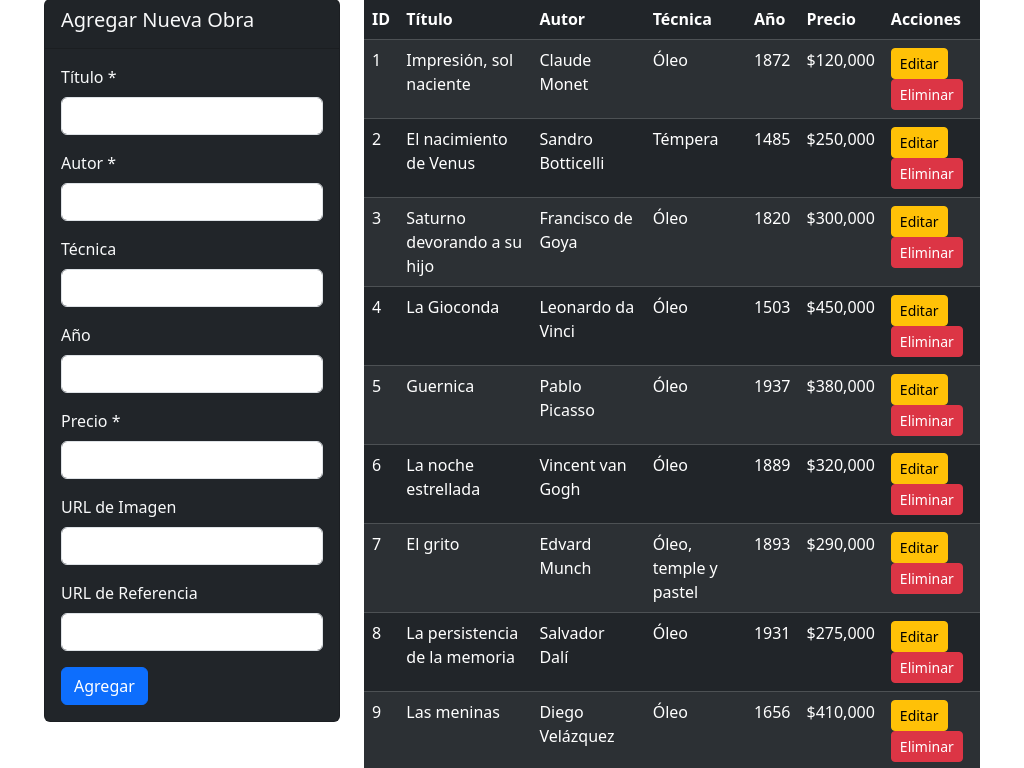
Mantenedor › valida título, inputs y validaciones de formulario
(page scrolled)
Check: the field named "titulo" below "Título *" is shown, box [61,97,323,135]
Check: the field named "autor" below "Autor *" is shown, box [61,183,323,221]
# Validación negativa: enviar vacío muestra mensaje de error
Submit the form, box [61,65,323,705]
# Caso positivo: completar y enviar muestra éxito
Type "Nueva Obra" into the field named "titulo" below "Título *".
click(192, 116); type("Nueva Obra")  # box [61,97,323,135]
(page scrolled)
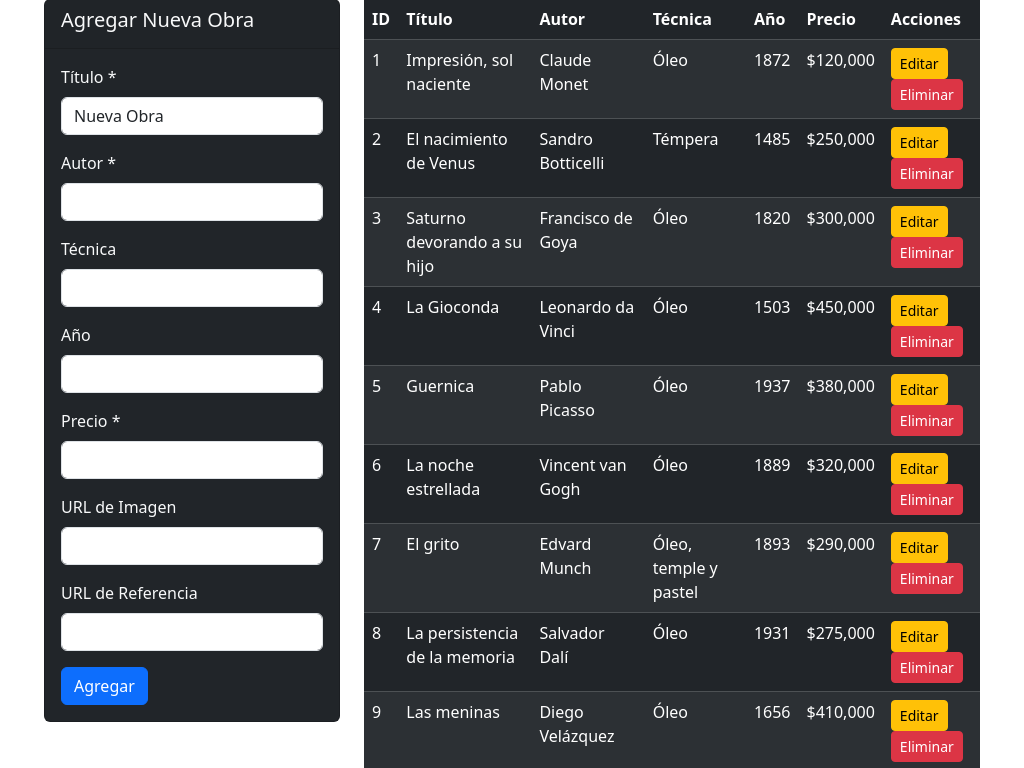
Type "Autor X" into the field named "autor" below "Autor *".
click(192, 202); type("Autor X")  # box [61,183,323,221]
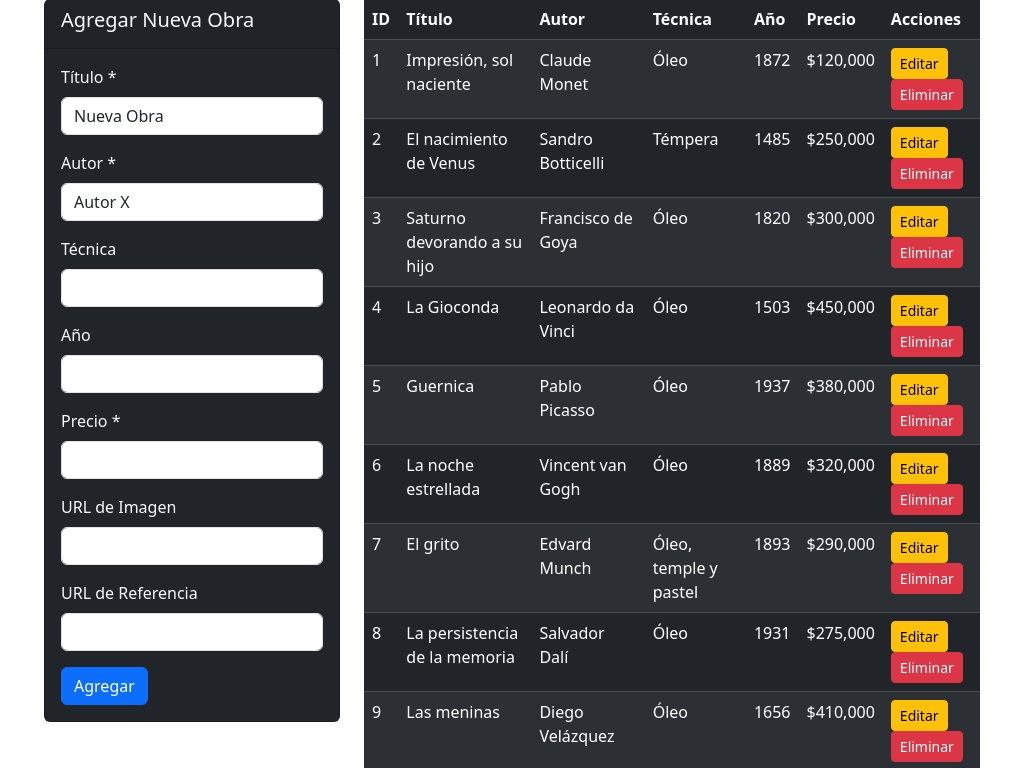
Type "1000" into the number field named "precio".
click(192, 460); type("1000")  # box [61,441,323,479]
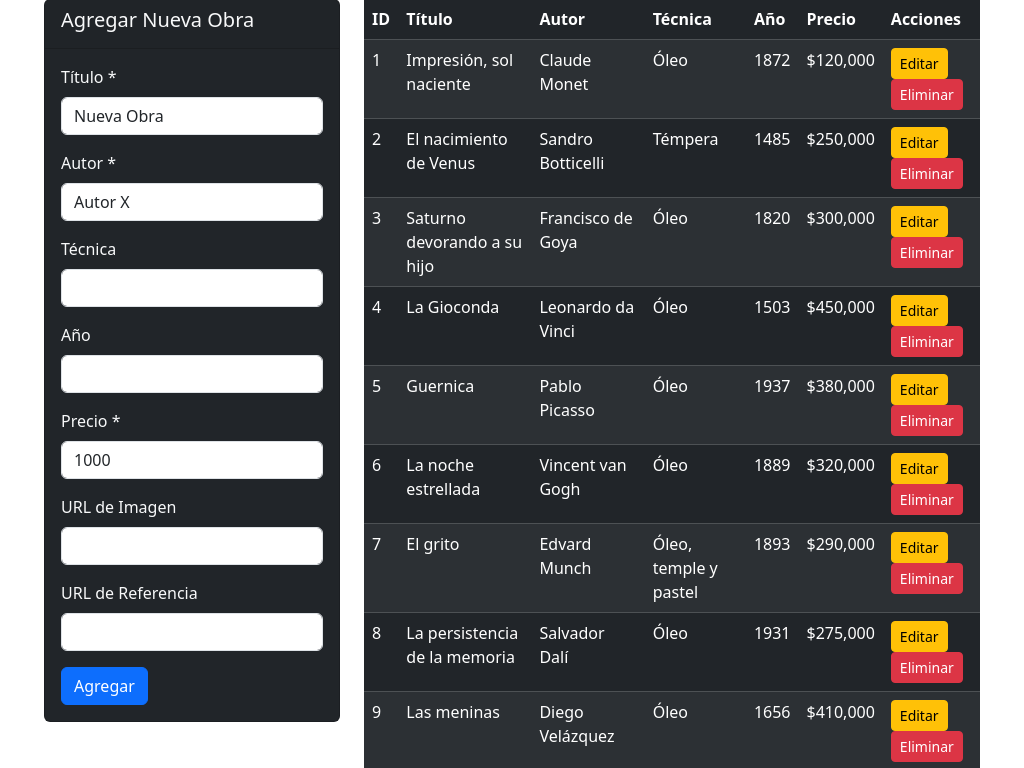
Submit the form, box [61,65,323,705]
(page scrolled)
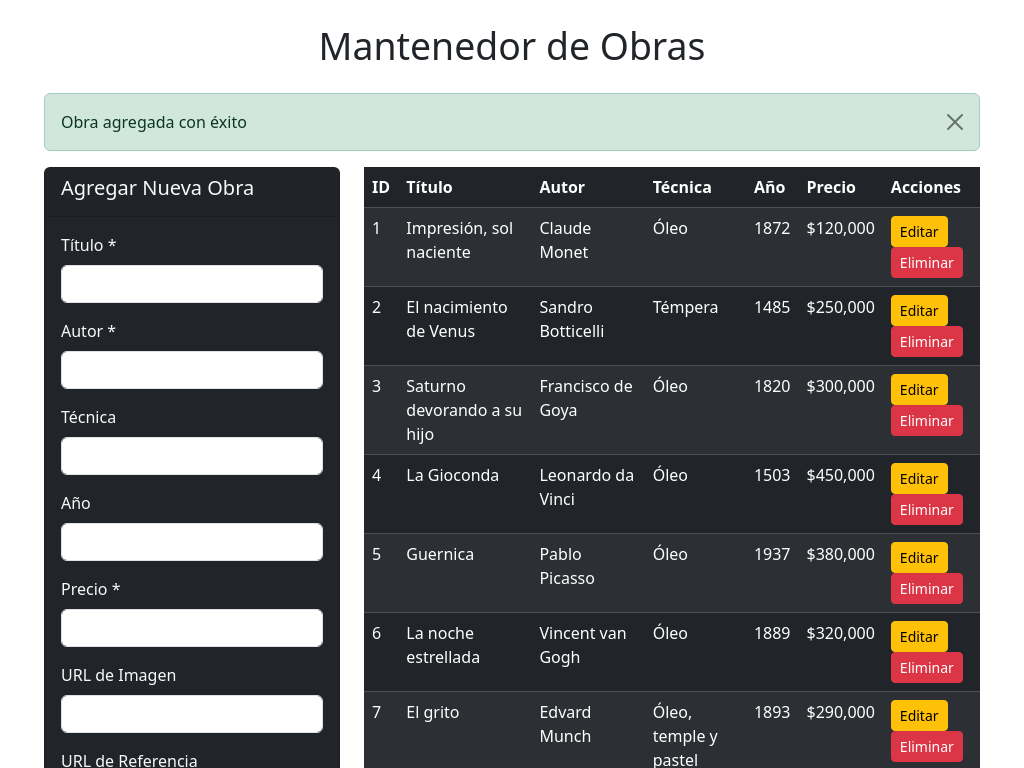
Check: the text "Obra agregada con éxito" is shown, box [44,93,980,151]
